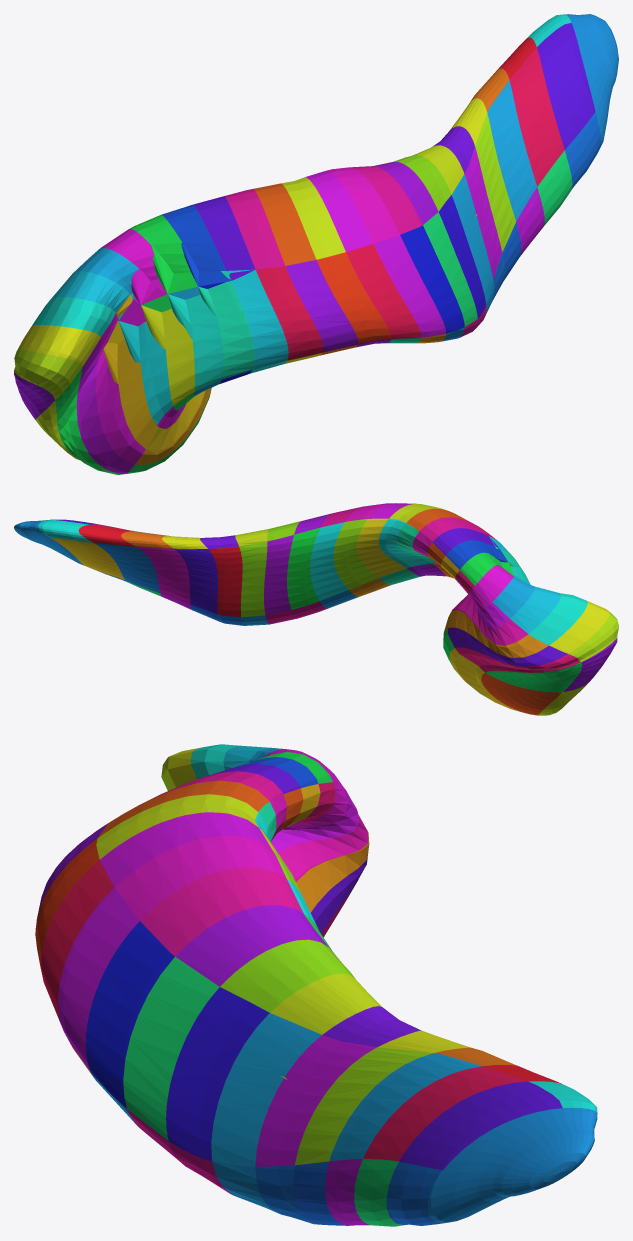
File: pancreas-female-vu.glb
3 views of the same model, one above another, from view 1: azimuth 30°, elevation 25°; view 2: azimuth 150°, elevation 25°; view 3: azimuth 270°, elevation 25° (orthographic). The views are drawn at different scales.
Visible parts, largest first — view 1: 24A, 23A, 22A, world, 12A, 11A, 13A, 9A, 10A, 14A, 15A, 8A (+43 smaller); view 2: 17C, 16C, 18C, 21C, 20C, 19C, 15C, 22C, 1D, 23C, 1C, 14C (+41 smaller); view 3: world, 18A, 17A, 19A, 16A, 16B, 20A, 15B, 24A, 15A, 17B, 18B (+32 smaller).
Boxes of the visible parts, x1,y1,x2,y2 form: 24A: (537,23,595,149); 23A: (509,47,564,186); 22A: (487,80,537,221); world: (565,14,618,145); 12A: (285,260,358,352); 11A: (256,266,323,360); 13A: (316,252,391,344); 9A: (198,271,254,379); 10A: (227,269,288,369); 14A: (346,244,421,338); 15A: (374,235,445,337); 8A: (167,294,223,391); 17C: (287,527,319,609); 16C: (310,522,348,600); 18C: (264,535,293,615); 21C: (175,549,217,613); 20C: (208,546,242,617); 19C: (239,541,267,617); 15C: (333,519,377,589); 22C: (136,547,190,604); 1D: (481,672,562,715); 23C: (94,542,159,592); 1C: (485,662,582,692); 14C: (356,518,406,577); world: (427,1107,597,1223); 18A: (166,987,269,1160); 17A: (123,956,219,1140); 19A: (211,1013,321,1166); 16A: (85,921,174,1108); 16B: (140,867,303,956); 20A: (255,1035,376,1166); 15B: (114,835,286,920); 24A: (399,1081,562,1170); 15A: (57,888,139,1071); 17B: (175,905,328,986); 18B: (220,939,355,1012).
Bounding box in the file's own units: 0.1702 × 0.0561 × 0.0817.
